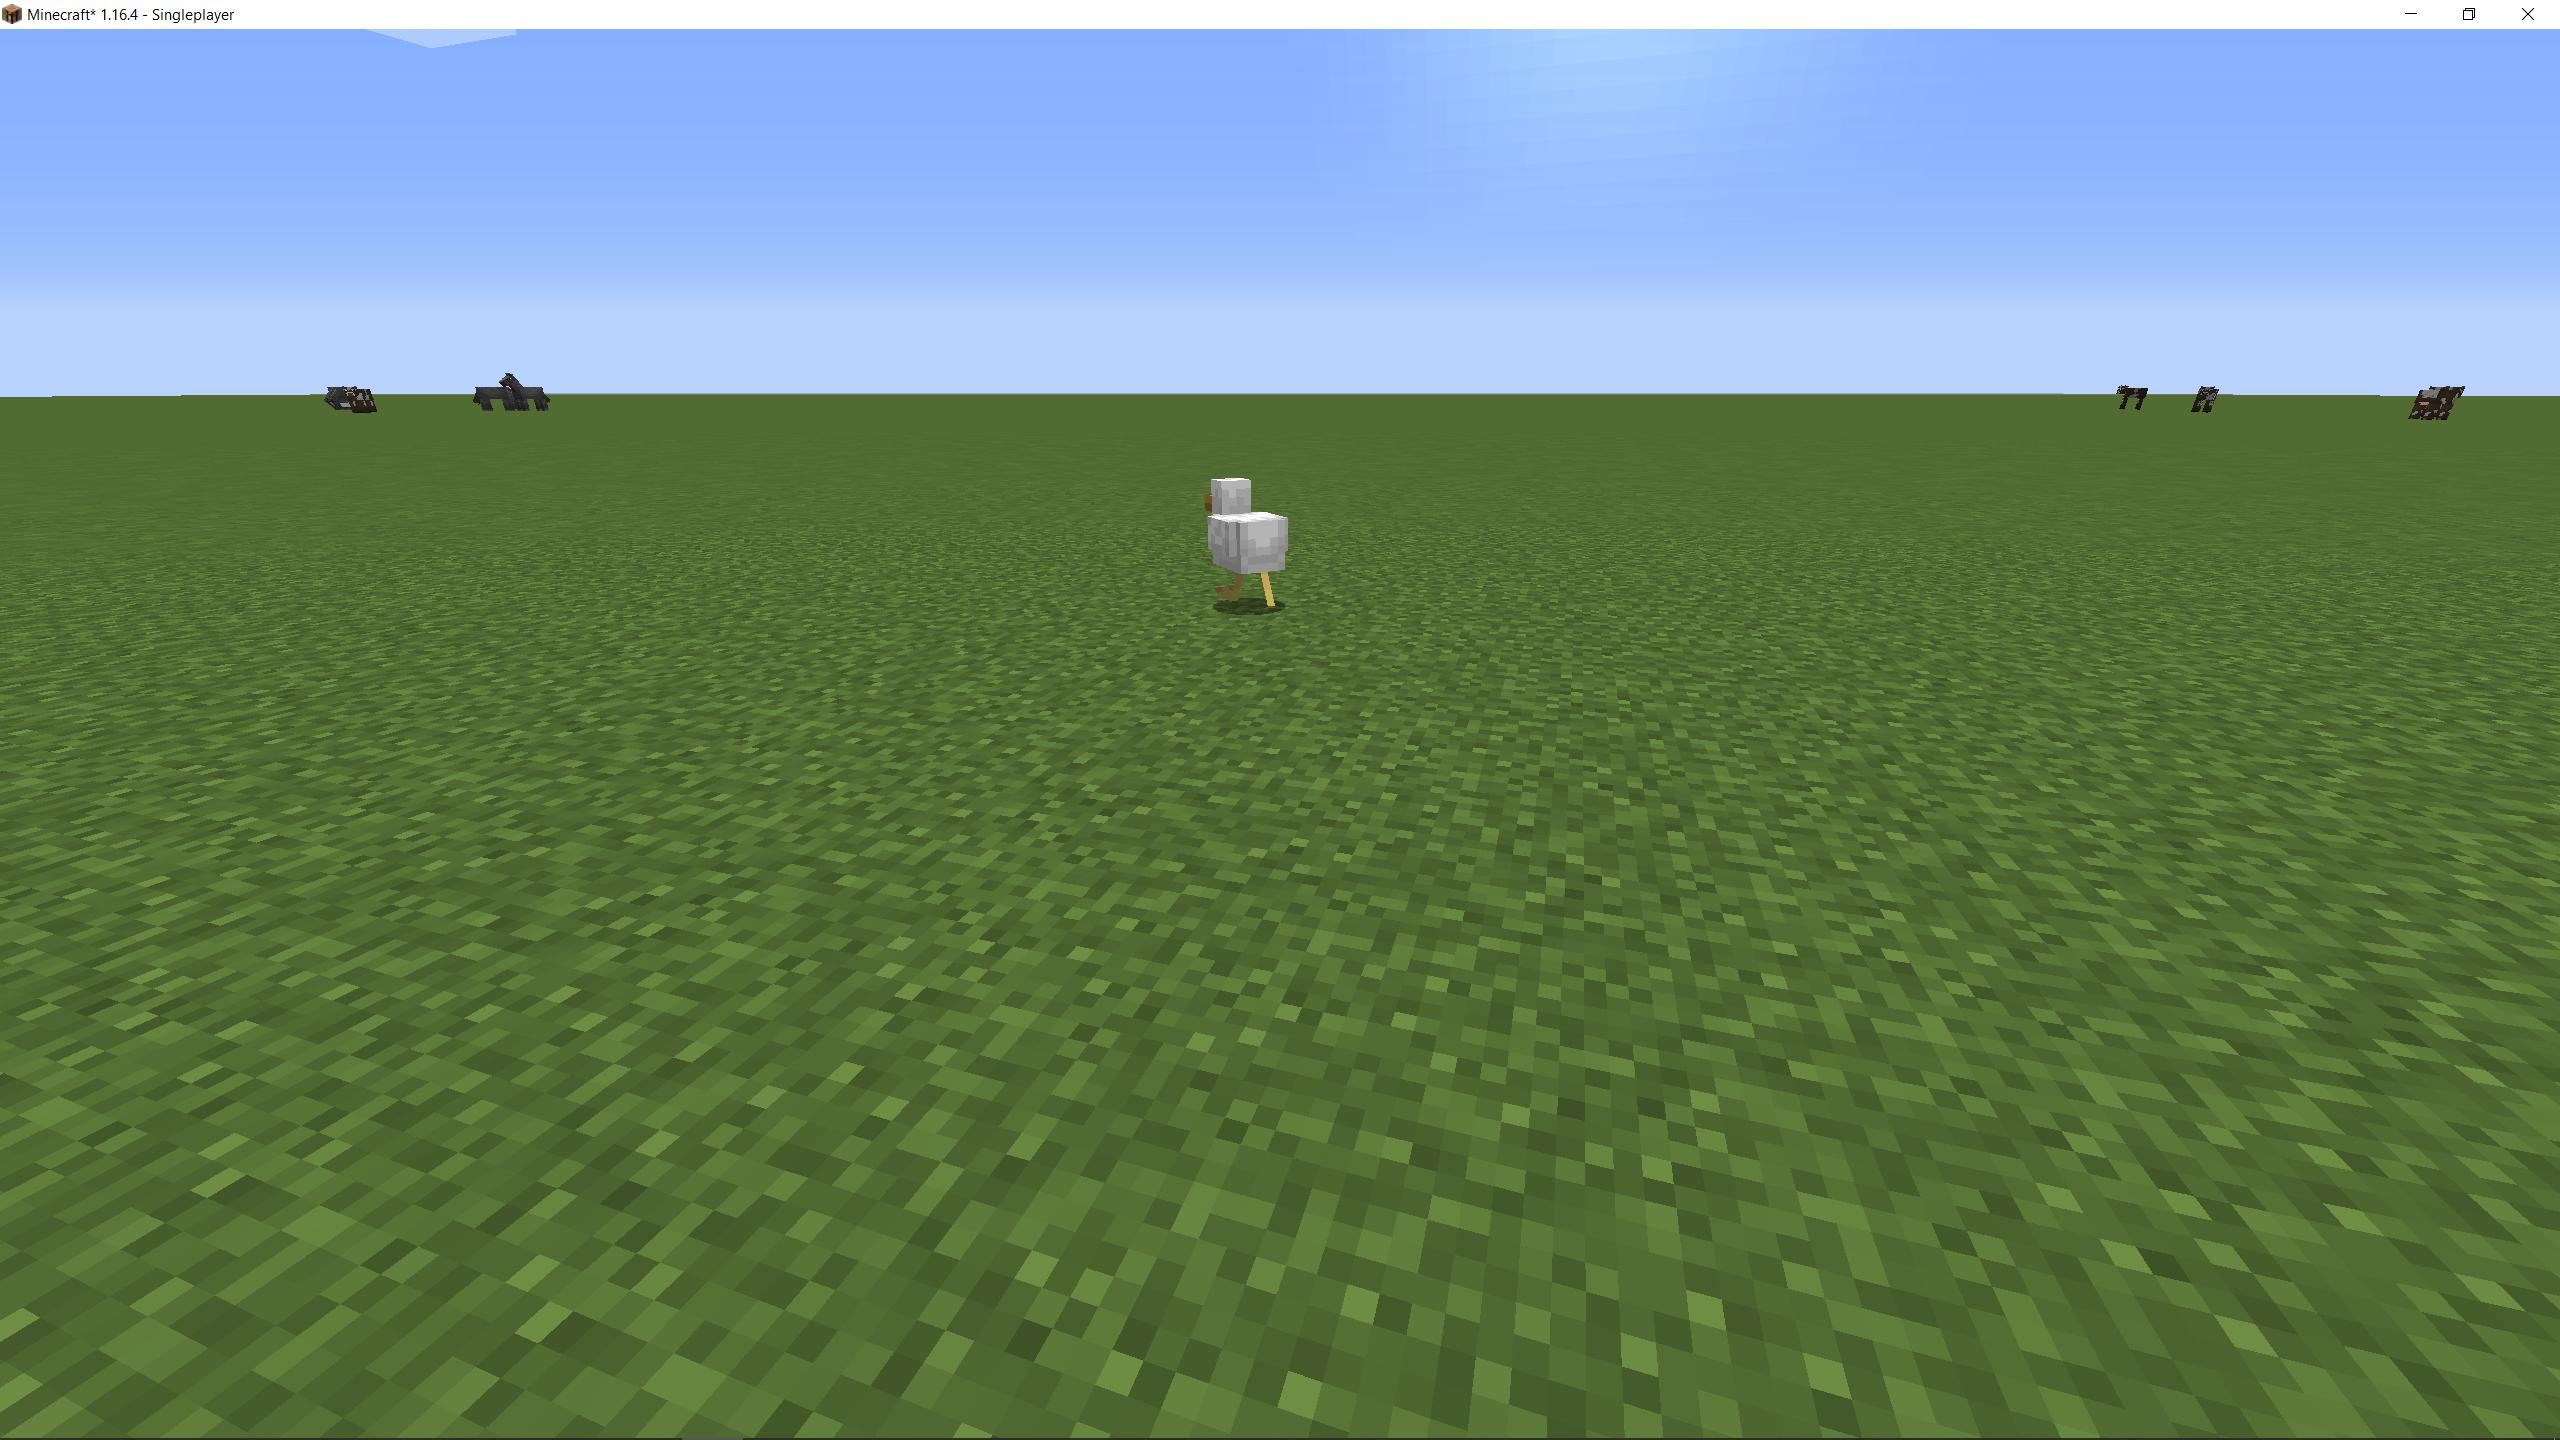chicken: (1199, 471, 1292, 608)
